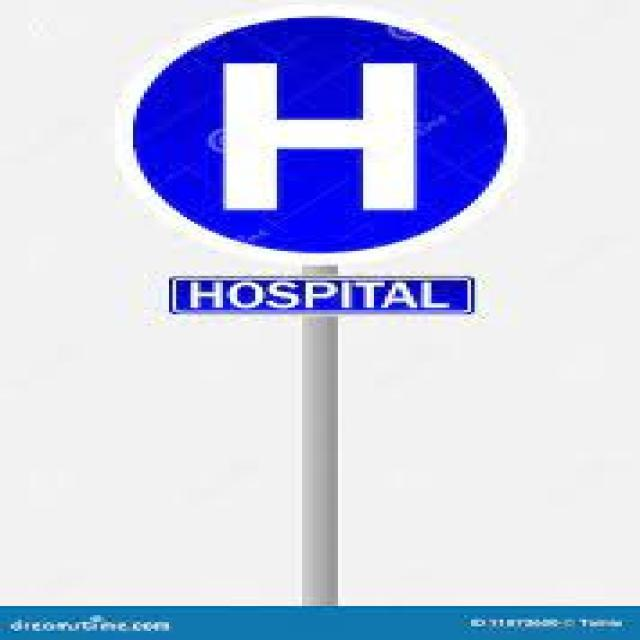hospital ahead: (130, 14, 518, 259)
